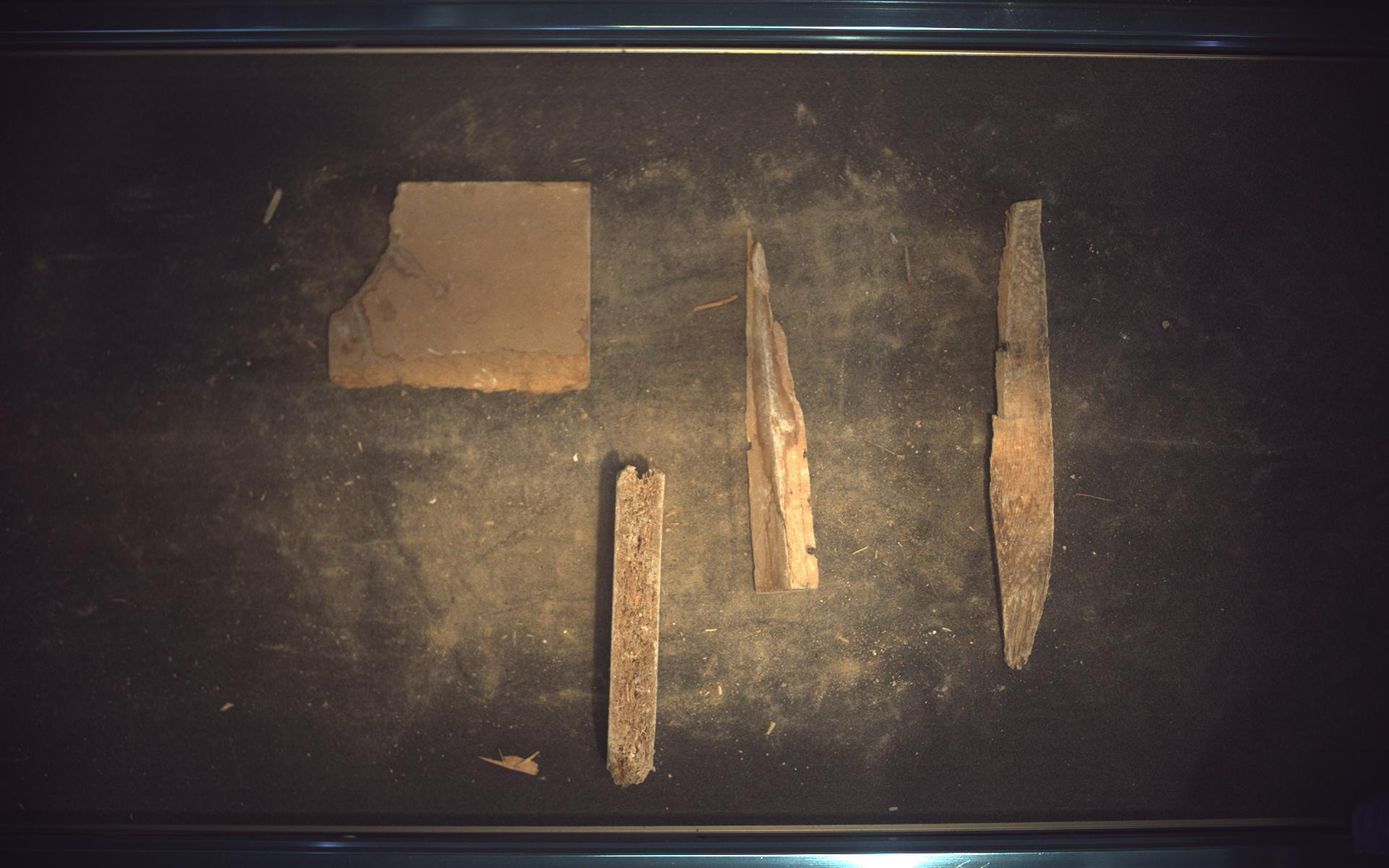wood: (330, 182, 590, 393), (992, 199, 1057, 671), (747, 231, 820, 592), (608, 467, 666, 787)
